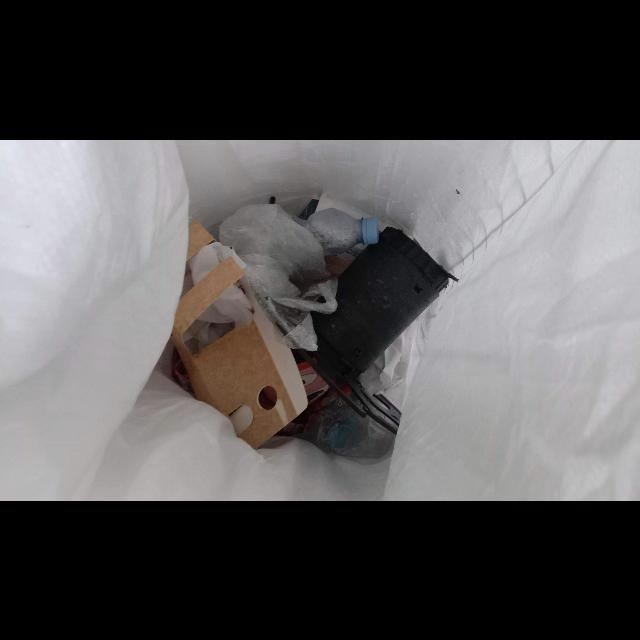cardboard: (172, 220, 308, 449)
plastic_bag: (219, 203, 338, 351)
plastic_bottle: (300, 207, 380, 252)
